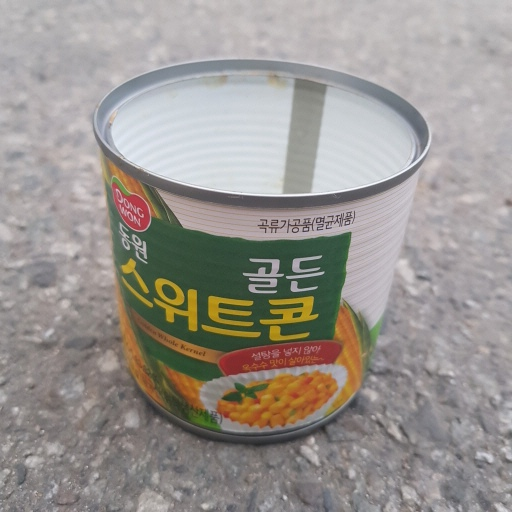Metal_1: (92, 57, 432, 448)
